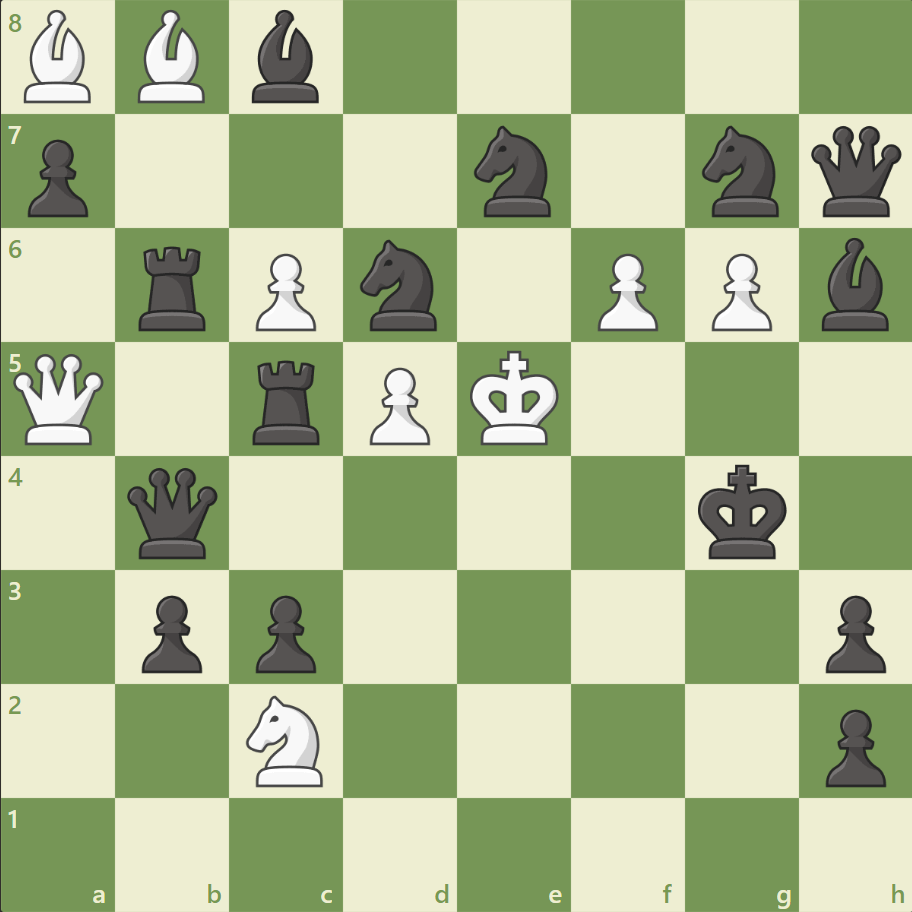B: (17, 6, 101, 109), (131, 6, 215, 109)
K: (465, 344, 565, 452)
N: (238, 688, 335, 791)
P: (247, 246, 322, 337), (701, 246, 776, 337), (588, 246, 662, 337), (361, 359, 435, 450)
Q: (10, 349, 109, 449)
b: (244, 6, 328, 109), (812, 233, 896, 336)
k: (692, 458, 792, 566)
n: (351, 234, 449, 337), (465, 121, 562, 223), (692, 121, 789, 223)
p: (20, 132, 95, 223), (133, 586, 208, 677), (247, 586, 322, 677), (815, 586, 889, 677), (815, 700, 889, 791)
q: (805, 122, 904, 222), (124, 463, 223, 562)
r: (246, 352, 329, 449), (133, 239, 215, 336)
